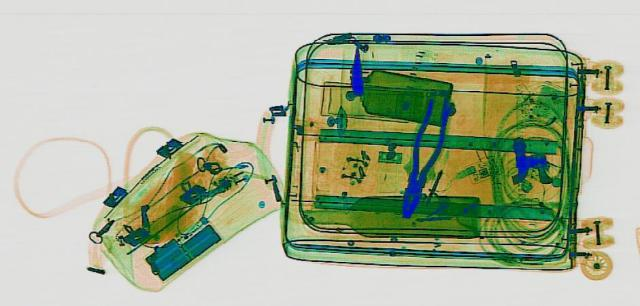Pliers: (390, 93, 456, 217)
